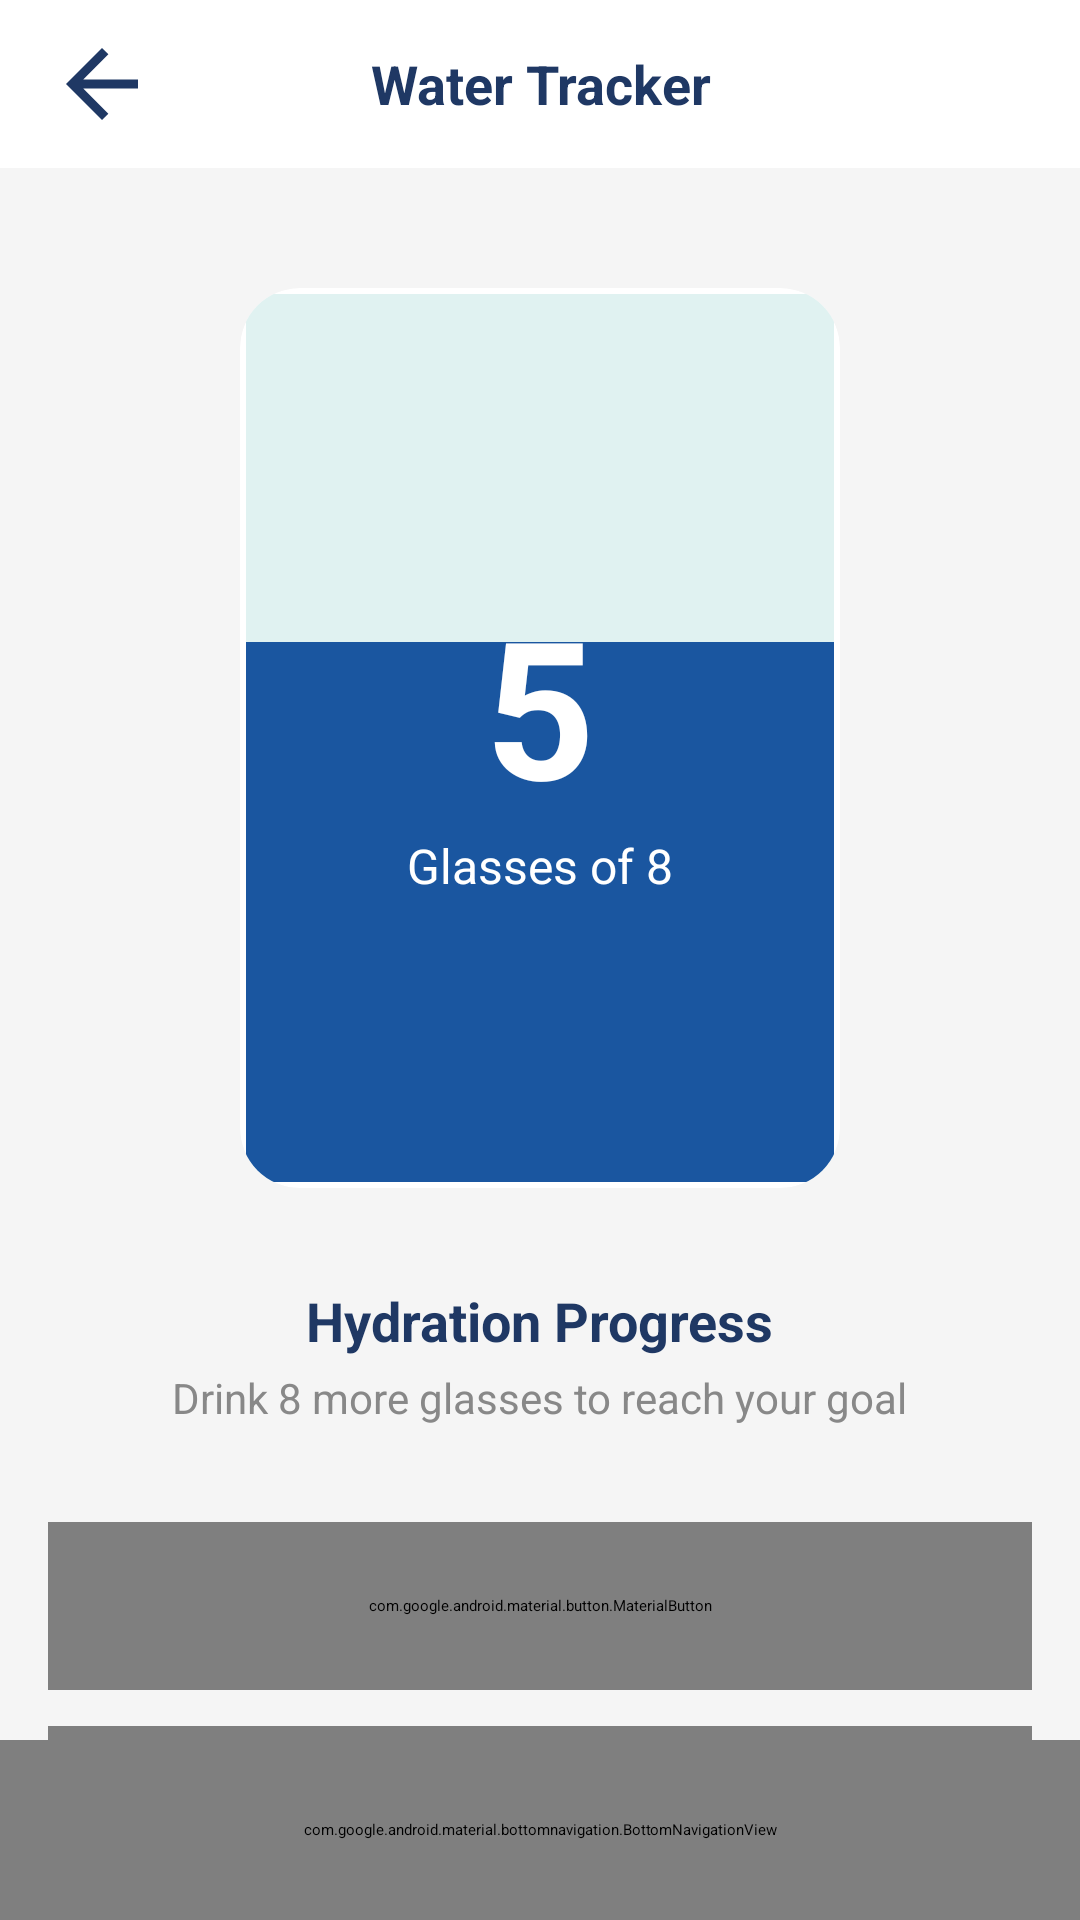

Screen size 1080px×1920px. Icon name, then its box in pixels as (x1, y1, x2, y2):
back arrow: (66, 48, 138, 120)
